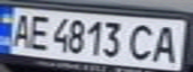1: (84, 18, 106, 56)
3: (100, 18, 127, 58)
4: (48, 15, 72, 53)
8: (66, 17, 87, 55)
A: (148, 22, 184, 64), (6, 11, 36, 48)
C: (124, 20, 160, 62)
E: (24, 11, 54, 51)
